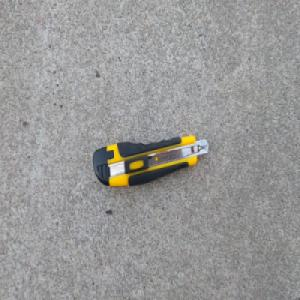Cutter: (90, 132, 211, 187)
